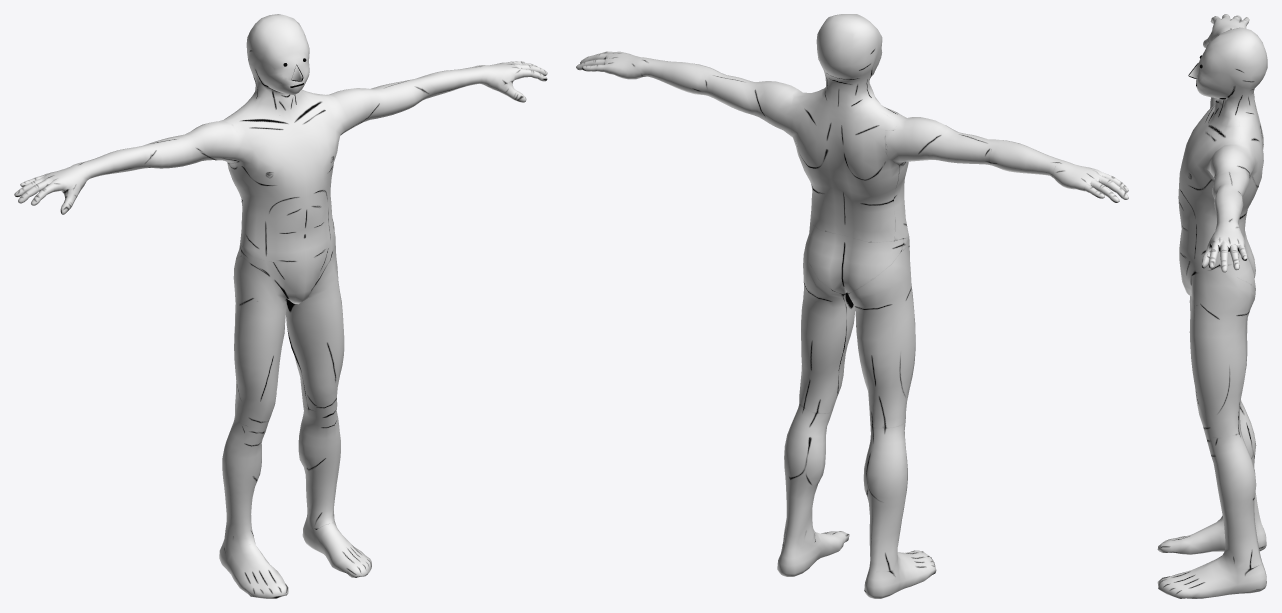
The model's file is npc.glb.
The picture shows the model from 3 angles, left to right: view 1: azimuth 30°, elevation 25°; view 2: azimuth 150°, elevation 25°; view 3: azimuth 270°, elevation 25°; orthographic projection. The views are drawn at different scales.
Parts seen in each view (by area): view 1: npc; view 2: npc; view 3: npc.
Boxes of the visible parts, left/top/right/bottom form: npc: left=14, top=14, right=547, bottom=598; npc: left=576, top=14, right=1128, bottom=598; npc: left=1157, top=14, right=1267, bottom=598.
Size of the model in its own units: 183 by 181 by 33.54.
Materials: 1 (1 with a texture image).
